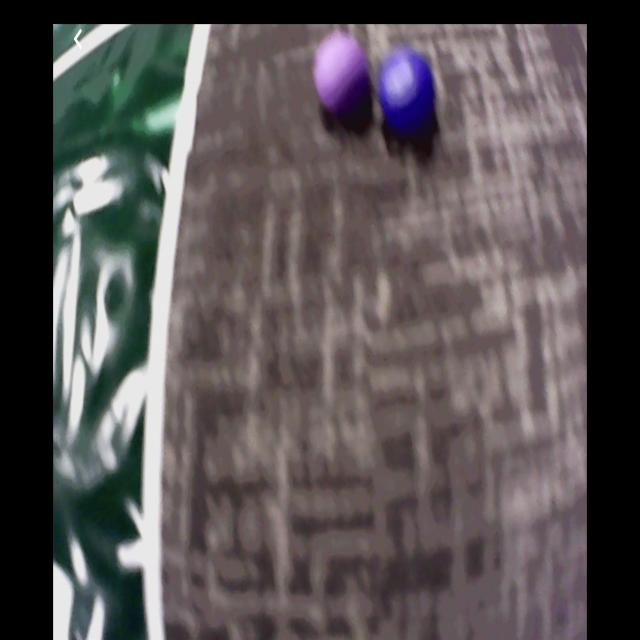ball: (315, 31, 371, 127), (380, 51, 436, 128)
